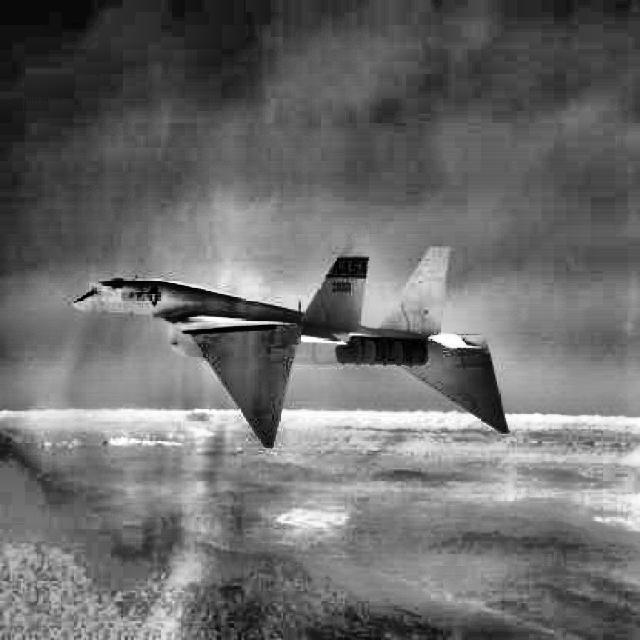XB70: (65, 235, 509, 447)
